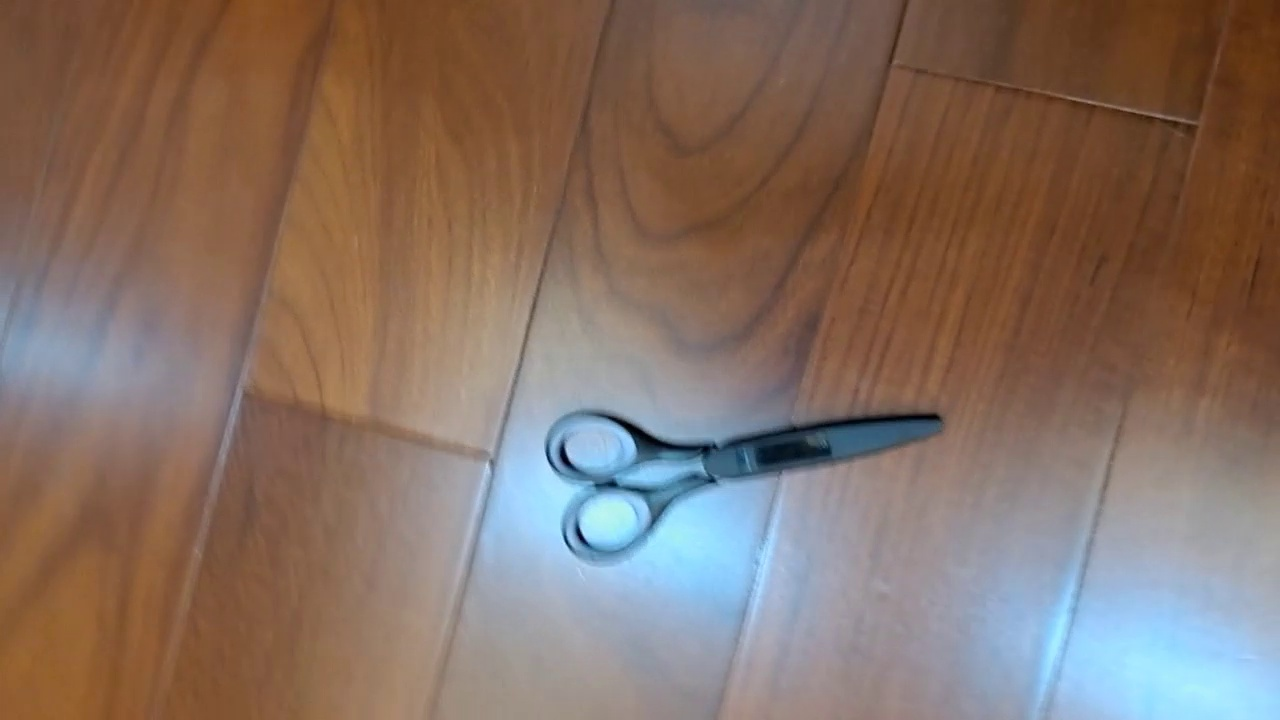scissors: (544, 407, 947, 567)
